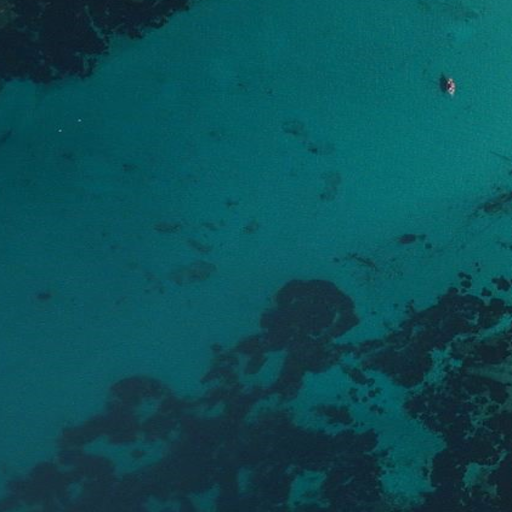ship: (444, 76, 460, 98)
